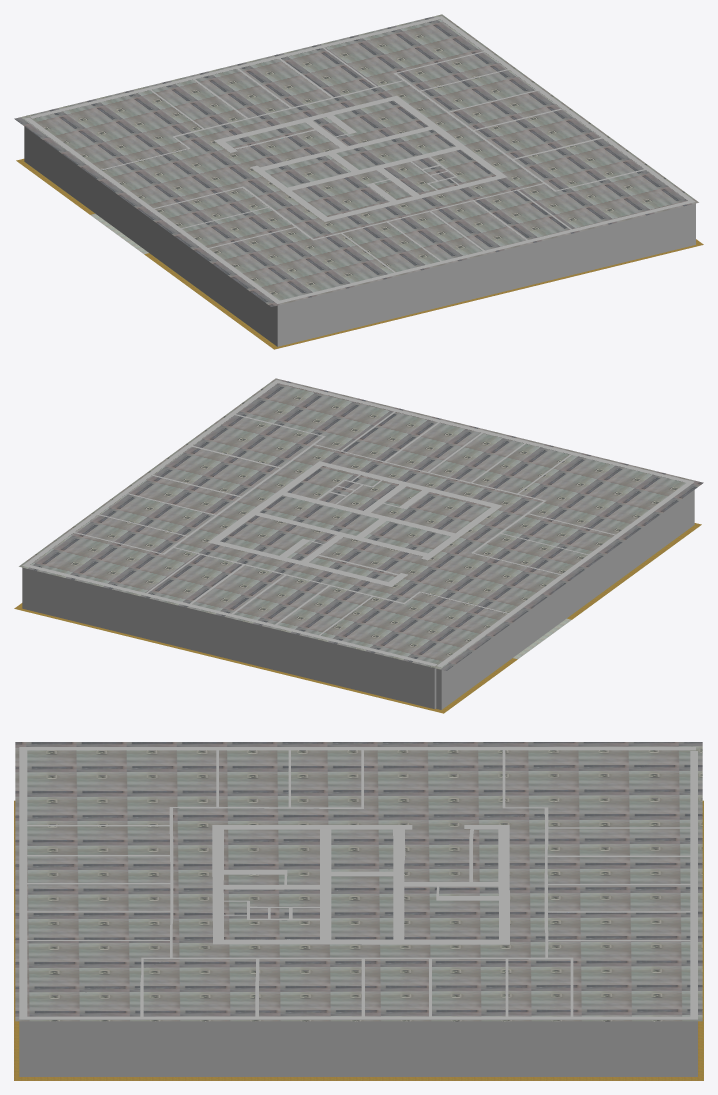
File: 7thmap.dae
3 renders of one model, top to bottom at view 1: azimuth 30°, elevation 25°; view 2: azimuth 150°, elevation 25°; view 3: azimuth 270°, elevation 25°, orthographic. The views are drawn at different scales.
Parts seen in each view (by area): view 1: Walls; view 2: Walls; view 3: Walls.
Boxes of the visible parts, left/top/right/bottom form: Walls: left=14, top=14, right=703, bottom=349; Walls: left=14, top=378, right=703, bottom=713; Walls: left=14, top=742, right=703, bottom=1080.
Size of the model in its own units: 26.89 by 27.83 by 2.55.
18 materials, 18 textured.
